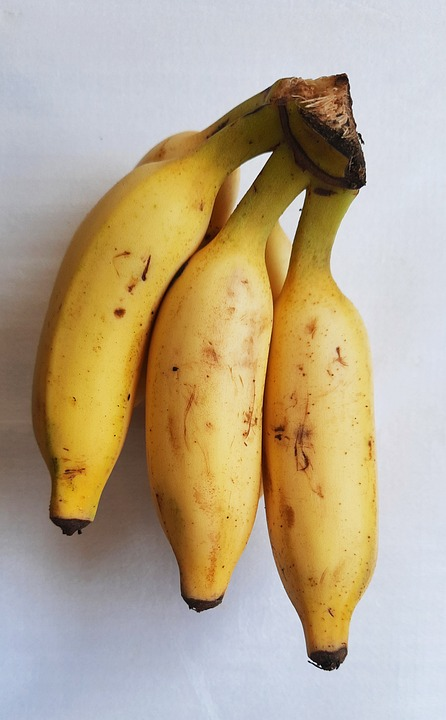Banana: (32, 132, 202, 537), (145, 156, 275, 614), (264, 185, 379, 670)
